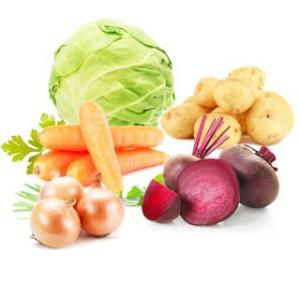beet: (218, 136, 282, 212), (178, 157, 238, 229), (138, 172, 180, 226), (162, 154, 216, 192)
cabbage: (39, 14, 176, 134)
carrot: (76, 99, 128, 207), (37, 120, 169, 160), (66, 146, 178, 188), (29, 149, 95, 183)
onion: (17, 194, 82, 250), (77, 176, 125, 238), (36, 174, 84, 214)
potato: (246, 89, 290, 143), (195, 110, 240, 148), (158, 101, 202, 139), (215, 74, 254, 114), (192, 75, 220, 103)
